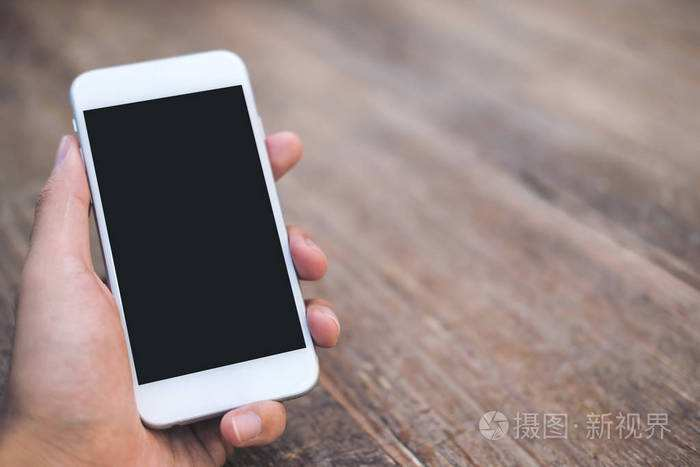phone: (22, 47, 344, 456)
